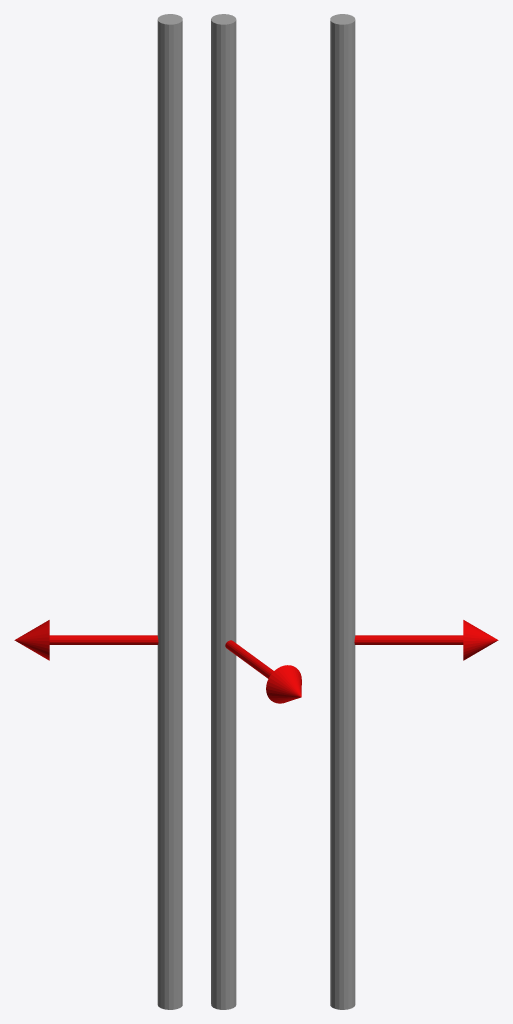
The model's file is BasePole (with arrow, bigger).fbx.
The picture shows the model from 3 angles, left to right: view 1: azimuth 90°, elevation 25°; view 2: azimuth 210°, elevation 25°; view 3: azimuth 270°, elevation 25°; orthographic projection.
Parts seen in each view (by area): view 1: Cylinder; view 2: Cylinder; view 3: Cylinder.
Boxes of the visible parts, left/top/right/bottom form: Cylinder: left=14, top=14, right=182, bottom=1009; Cylinder: left=211, top=14, right=301, bottom=1009; Cylinder: left=330, top=14, right=498, bottom=1009.
Bounding box in the file's own units: 4.65 × 122 × 18.9.
